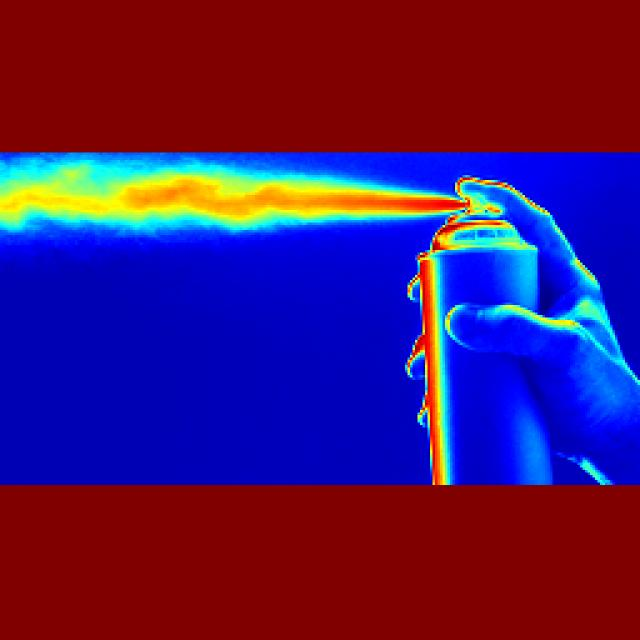Aerosol Cans: (398, 188, 554, 500)
